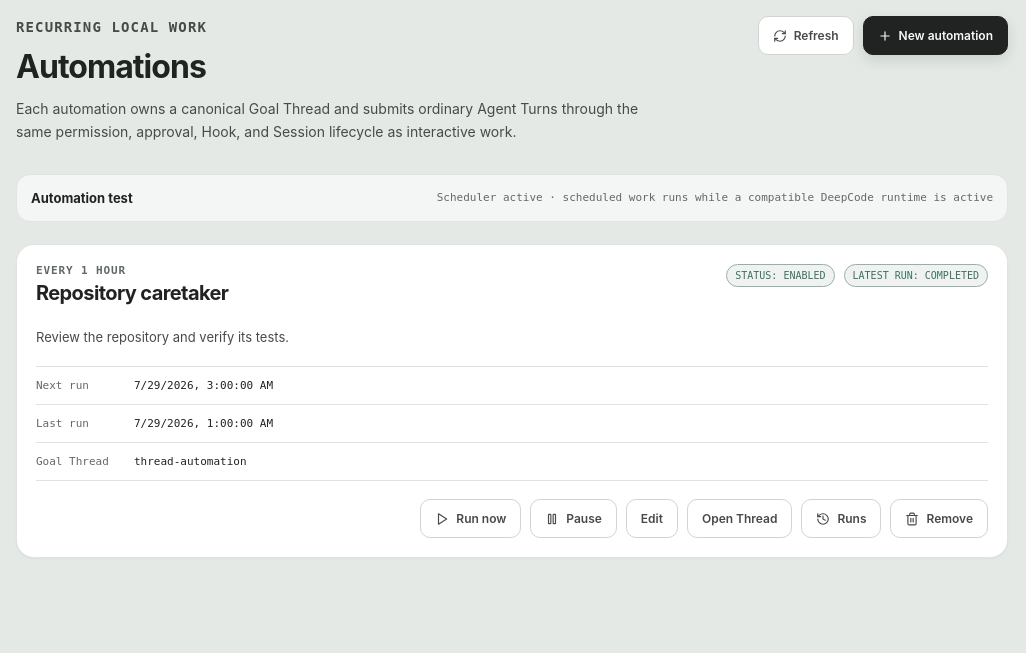
AutomationsPage › refreshes the visible Run history on automation.updated
Expected: the heading "Repository caretaker" is shown, 36,280 -> 228,304
Click the button "Runs": (841, 519) 801,499 -> 882,538
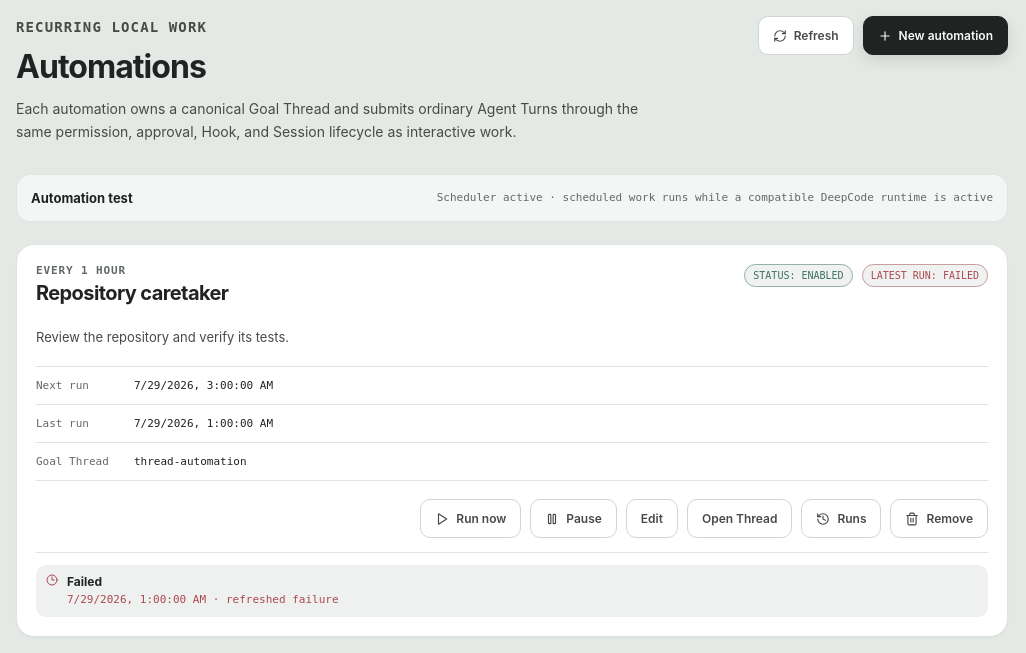
Now the text "7/29/2026, 1:00:00 AM · refreshed failure" is shown, box 67,593 -> 338,606
